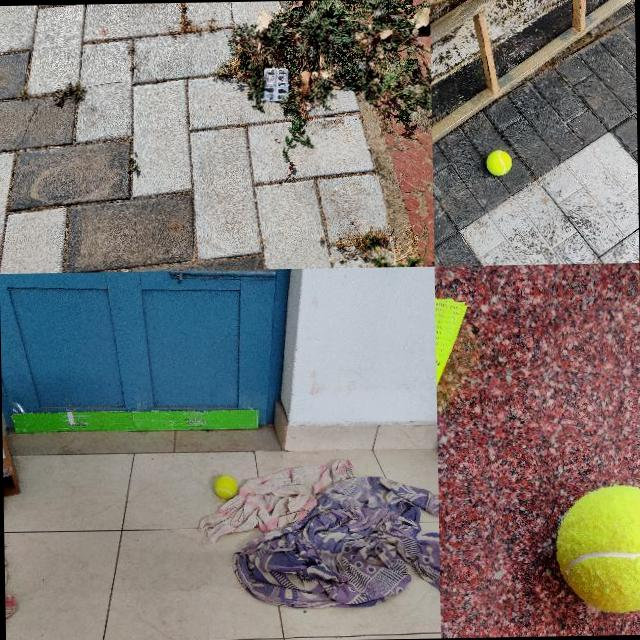Tennis Ball: (555, 484, 640, 611), (486, 149, 512, 175), (214, 474, 237, 498)
